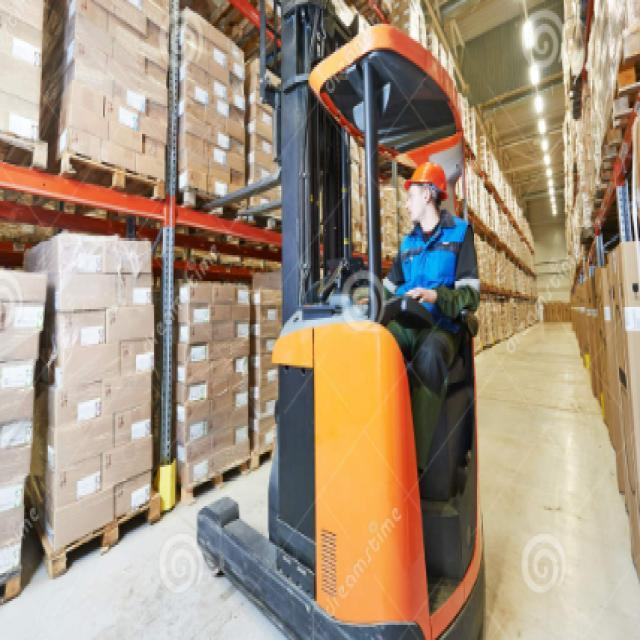helmet: (399, 162, 451, 227)
